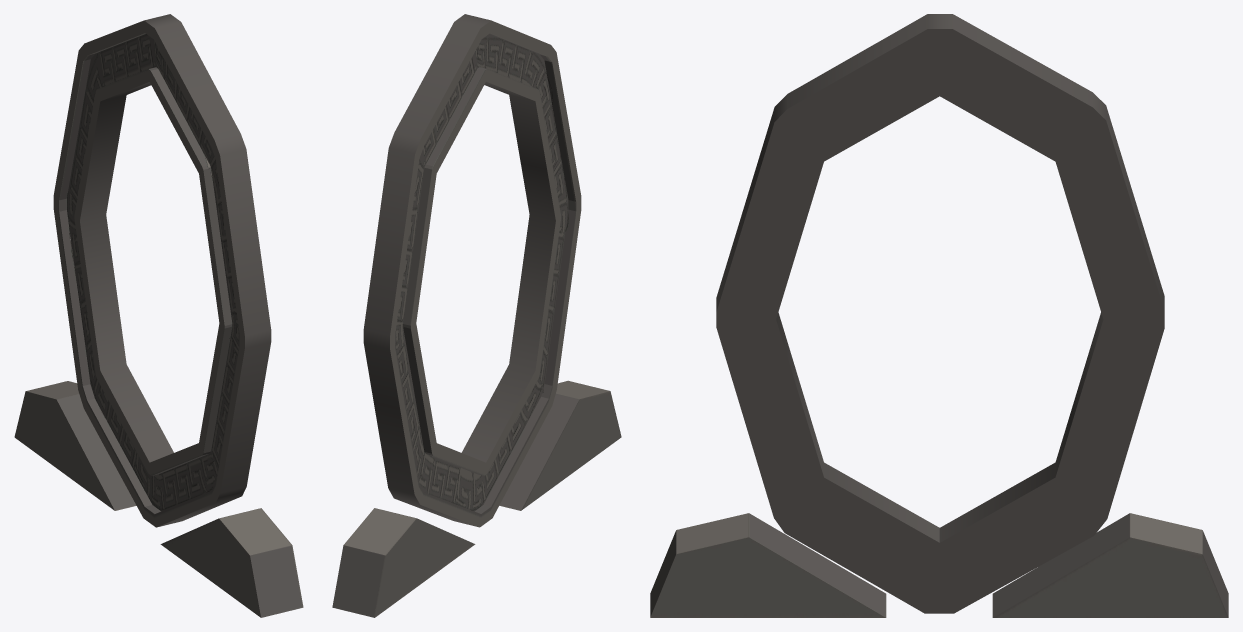
File: portal01.fbx
3 renders of one model, left to right at view 1: azimuth 30°, elevation 25°; view 2: azimuth 150°, elevation 25°; view 3: azimuth 270°, elevation 25°, orthographic. The views are drawn at different scales.
Visible parts, largest first — view 1: Object092; view 2: Object092; view 3: Object092.
Part boxes in pixels (left/top/right/bottom): Object092: left=14, top=14, right=303, bottom=617; Object092: left=332, top=14, right=621, bottom=617; Object092: left=650, top=14, right=1228, bottom=617.
Size of the model in its own units: 30.63 by 345 by 308.
